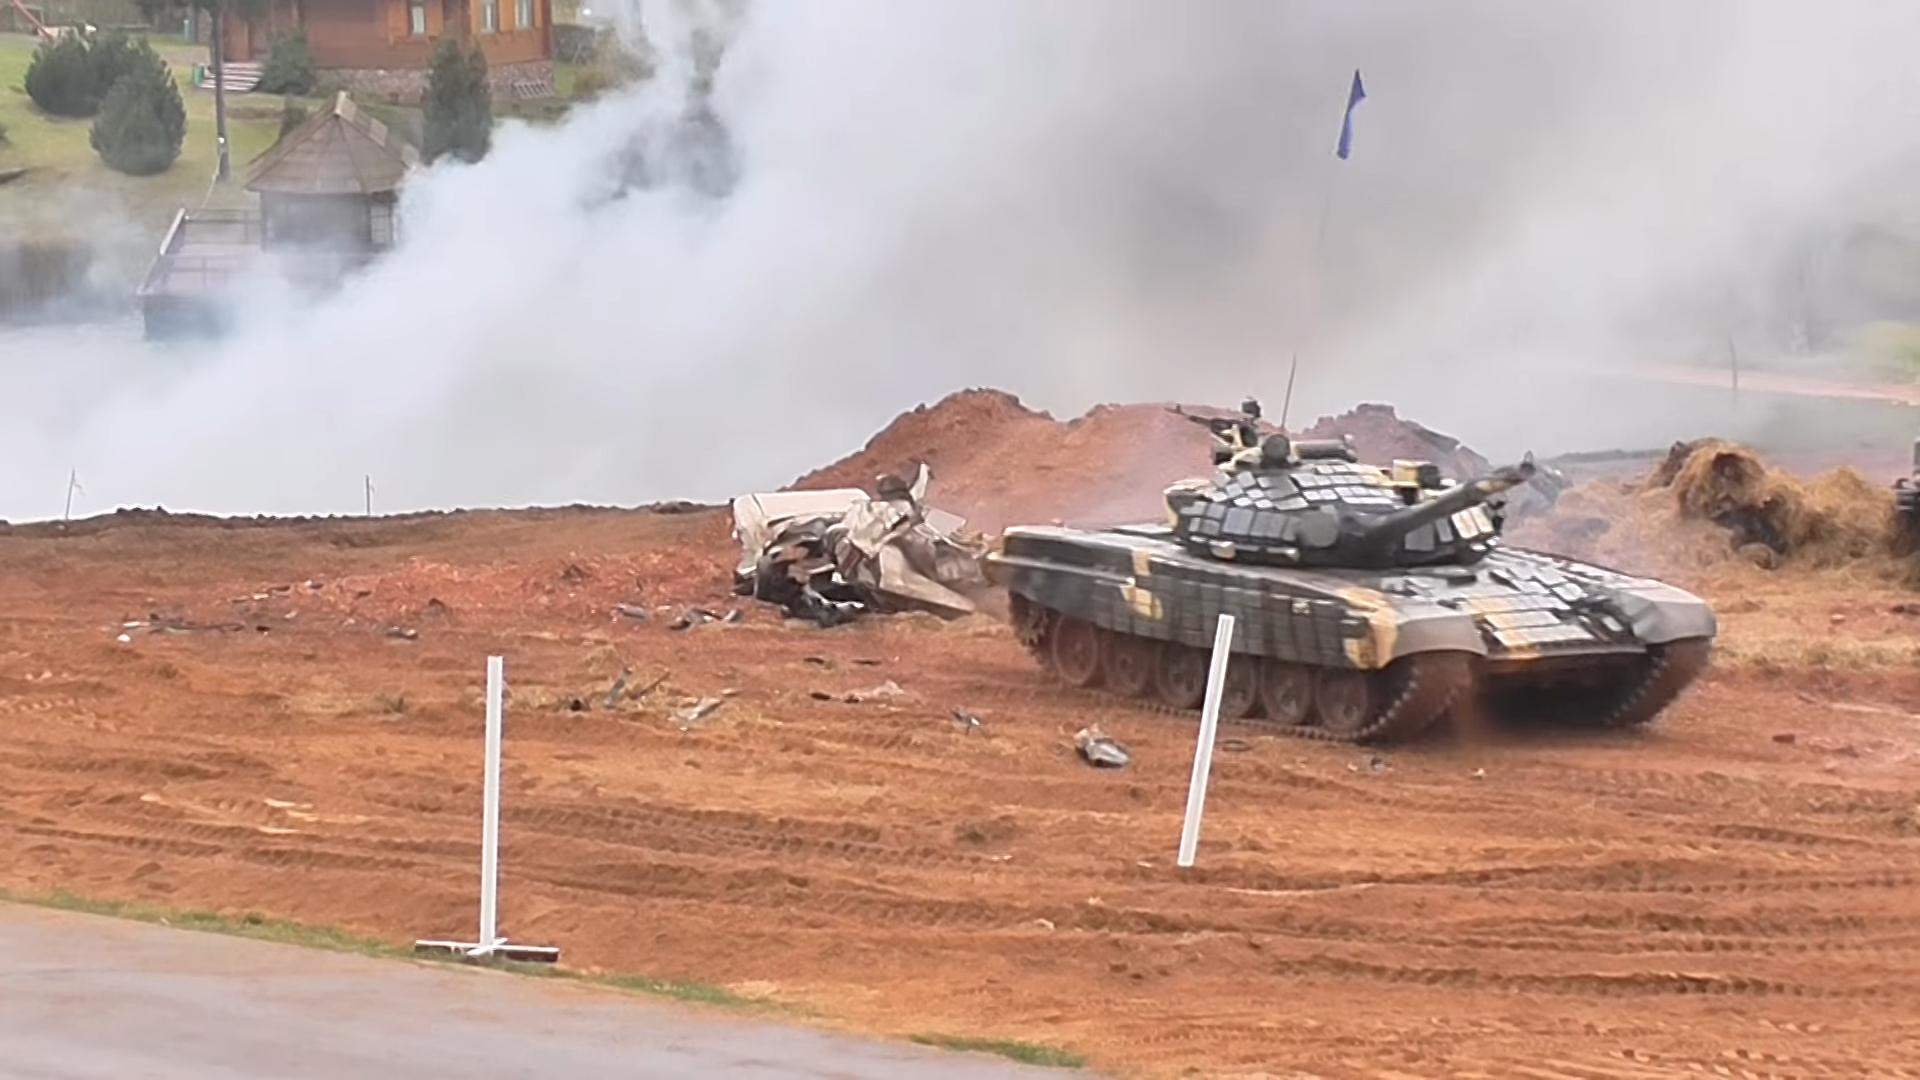tank: (988, 406, 1717, 743)
